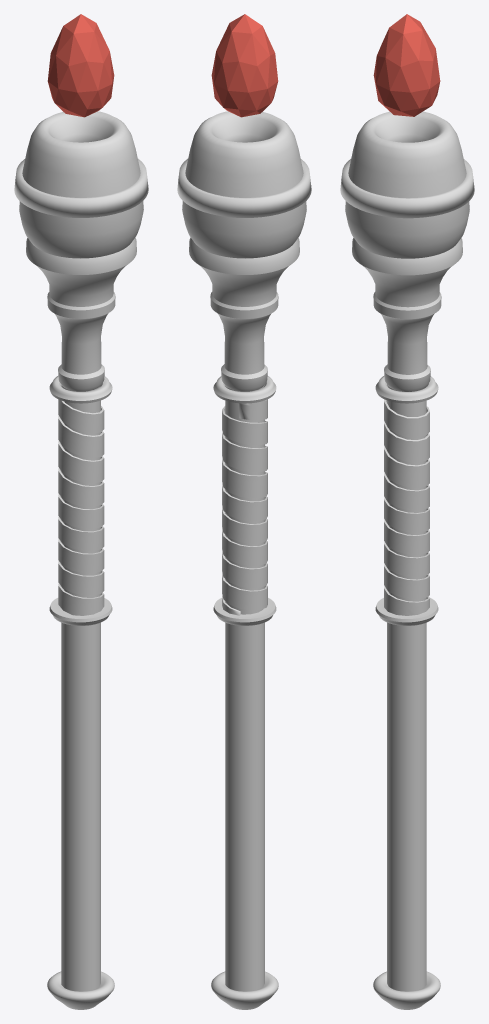
File: staf.fbx
3 views of the same model, side by side, from view 1: azimuth 30°, elevation 25°; view 2: azimuth 150°, elevation 25°; view 3: azimuth 330°, elevation 25° (orthographic).
Visible parts, largest first — view 1: Cylinder, Icosphere; view 2: Cylinder, Icosphere; view 3: Cylinder, Icosphere.
Part boxes in pixels (left/top/right/bottom): Cylinder: left=14, top=111, right=148, bottom=1009; Icosphere: left=47, top=14, right=114, bottom=117; Cylinder: left=177, top=111, right=311, bottom=1009; Icosphere: left=211, top=14, right=278, bottom=117; Cylinder: left=340, top=111, right=474, bottom=1009; Icosphere: left=373, top=14, right=440, bottom=116.
Size of the model in its own units: 0.275 by 2.23 by 0.2717.
